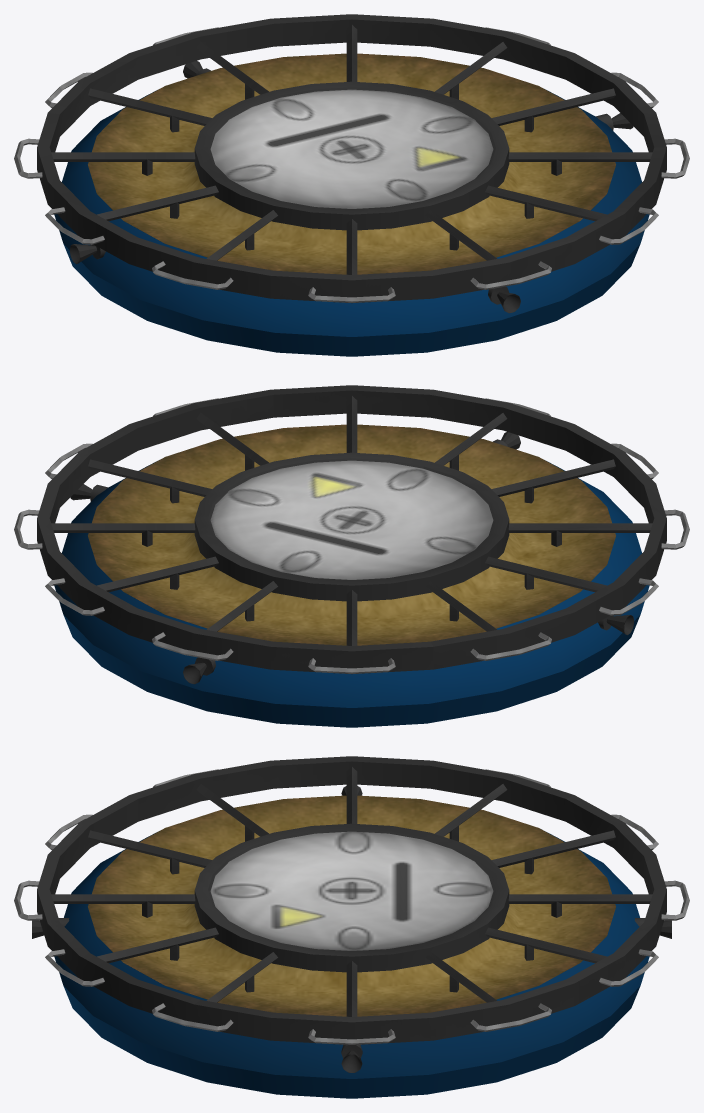
Rendered from HubPivot.FBX.
The picture shows the model from 3 angles, top to bottom: view 1: azimuth 30°, elevation 25°; view 2: azimuth 150°, elevation 25°; view 3: azimuth 270°, elevation 25°; orthographic projection.
Parts seen in each view (by area): view 1: EndCap001, StructuralRing001, Brace044, Brace050, Brace045, Brace049, Brace051, Brace043, Brace046, Brace048, Brace007, Brace052 (+6 smaller); view 2: EndCap001, StructuralRing001, Brace046, Brace052, Brace053, Brace045, Brace047, Brace051, Brace007, Brace044, Brace050, Brace048 (+6 smaller); view 3: EndCap001, StructuralRing001, Brace007, Brace048, Brace053, Brace049, Brace047, Brace043, Brace050, Brace052, Brace044, Brace046 (+6 smaller).
Part boxes in pixels (bbox=[...]): EndCap001: bbox=[54, 53, 649, 356]; StructuralRing001: bbox=[37, 14, 666, 303]; Brace044: bbox=[508, 152, 652, 161]; Brace050: bbox=[51, 152, 195, 161]; Brace045: bbox=[491, 88, 615, 125]; Brace049: bbox=[88, 88, 212, 125]; Brace051: bbox=[97, 185, 218, 221]; Brace043: bbox=[485, 185, 606, 221]; Brace046: bbox=[435, 42, 507, 94]; Brace048: bbox=[196, 42, 268, 94]; Brace007: bbox=[426, 210, 497, 260]; Brace052: bbox=[206, 210, 277, 260]; EndCap001: bbox=[54, 424, 649, 727]; StructuralRing001: bbox=[37, 385, 666, 674]; Brace046: bbox=[51, 523, 195, 532]; Brace052: bbox=[508, 523, 652, 532]; Brace053: bbox=[491, 459, 615, 496]; Brace045: bbox=[88, 459, 212, 496]; Brace047: bbox=[97, 556, 218, 592]; Brace051: bbox=[485, 556, 606, 592]; Brace007: bbox=[435, 413, 507, 465]; Brace044: bbox=[196, 413, 268, 465]; Brace050: bbox=[426, 581, 497, 631]; Brace048: bbox=[206, 581, 277, 631]; EndCap001: bbox=[54, 795, 649, 1098]; StructuralRing001: bbox=[37, 756, 666, 1045]; Brace007: bbox=[51, 894, 195, 903]; Brace048: bbox=[508, 894, 652, 903]; Brace053: bbox=[88, 830, 212, 867]; Brace049: bbox=[491, 830, 615, 867]; Brace047: bbox=[485, 927, 606, 963]; Brace043: bbox=[97, 927, 218, 963]; Brace050: bbox=[435, 784, 507, 836]; Brace052: bbox=[196, 784, 268, 836]; Brace044: bbox=[206, 952, 277, 1002]; Brace046: bbox=[426, 952, 497, 1002].
Size of what is drawn, in the model's own units: 2.68 by 2.68 by 0.4515.
Materials: 1 (1 with a texture image).
